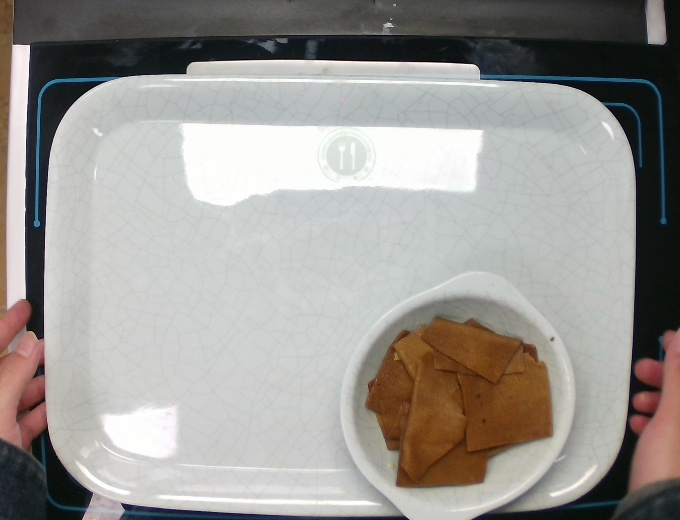JYsf-Shuang_Er_Wan: (338, 260, 576, 519)
